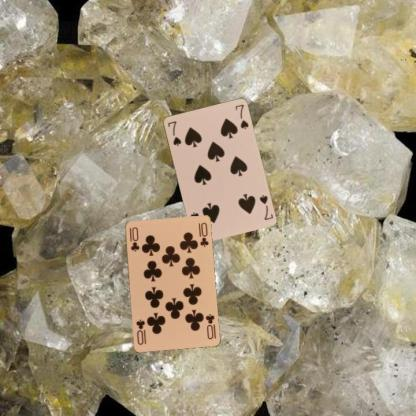10c: (127, 224, 140, 253), (203, 312, 215, 340)
7s: (256, 192, 274, 221), (165, 118, 182, 147)
